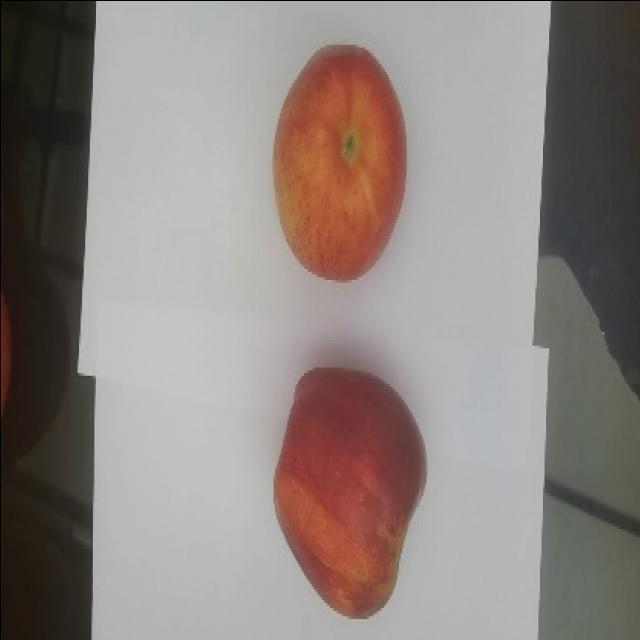Apple: (272, 358, 432, 621), (270, 42, 413, 286)
